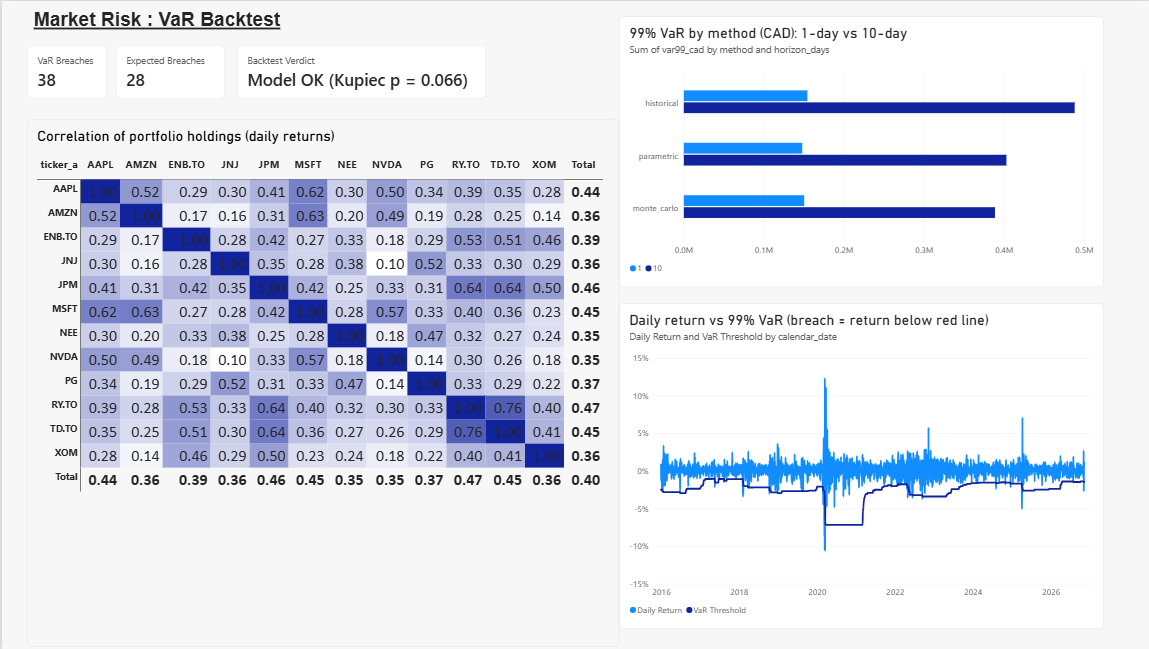

What the dashboard file says about the page in this screenshot:
{"tool":"powerbi","page":{"name":"Risk & VaR","canvas":[1920,1080],"ordinal":1},"visuals":[{"type":"cardVisual","fields":{"Data":["_Measures.VaR Breaches"]},"box":[41.7,73.3,133.3,90],"z":0},{"type":"cardVisual","fields":{"Data":["_Measures.Expected Breaches"]},"box":[190,73.3,181.7,90],"z":1000},{"type":"cardVisual","fields":{"Data":["_Measures.Backtest Verdict"]},"box":[391.7,73.3,415,90],"z":2000},{"type":"textbox","box":[41.7,13.3,433.3,48.3],"z":3000},{"type":"lineChart","title":"Daily return vs 99% VaR (breach = return below red line)","fields":{"Category":["dim_date.calendar_date"],"Y":["_Measures.Daily Return","_Measures.VaR Threshold"]},"box":[1028.3,503.3,808.3,543.3],"z":4000},{"type":"clusteredBarChart","title":"99% VaR by method (CAD): 1-day vs 10-day","fields":{"Category":["risk_var_comparison.method"],"Series":["risk_var_comparison.horizon_days"],"Y":["Sum(risk_var_comparison.var99_cad)"]},"box":[1028.3,25,808.3,451.7],"z":5000},{"type":"pivotTable","title":"Correlation of portfolio holdings (daily returns)","fields":{"Columns":["risk_correlation_matrix.ticker_b"],"Rows":["risk_correlation_matrix.ticker_a"],"Values":["Avg(risk_correlation_matrix.correlation)"]},"box":[41.7,196.7,986.7,880],"z":6000}]}

Visuals, with their boxes in screenshot pixels (x1, y1, x2, y2), scaled from the page's 1920x1080 canvas onto the 1149x649 screenshot:
cardVisual - _Measures.VaR Breaches: x1=25 y1=44 x2=105 y2=98
cardVisual - _Measures.Expected Breaches: x1=114 y1=44 x2=222 y2=98
cardVisual - _Measures.Backtest Verdict: x1=234 y1=44 x2=483 y2=98
textbox: x1=25 y1=8 x2=284 y2=37
"Daily return vs 99% VaR (breach = return below red line)" lineChart: x1=615 y1=302 x2=1099 y2=629
"99% VaR by method (CAD): 1-day vs 10-day" clusteredBarChart: x1=615 y1=15 x2=1099 y2=286
"Correlation of portfolio holdings (daily returns)" pivotTable: x1=25 y1=118 x2=615 y2=647
